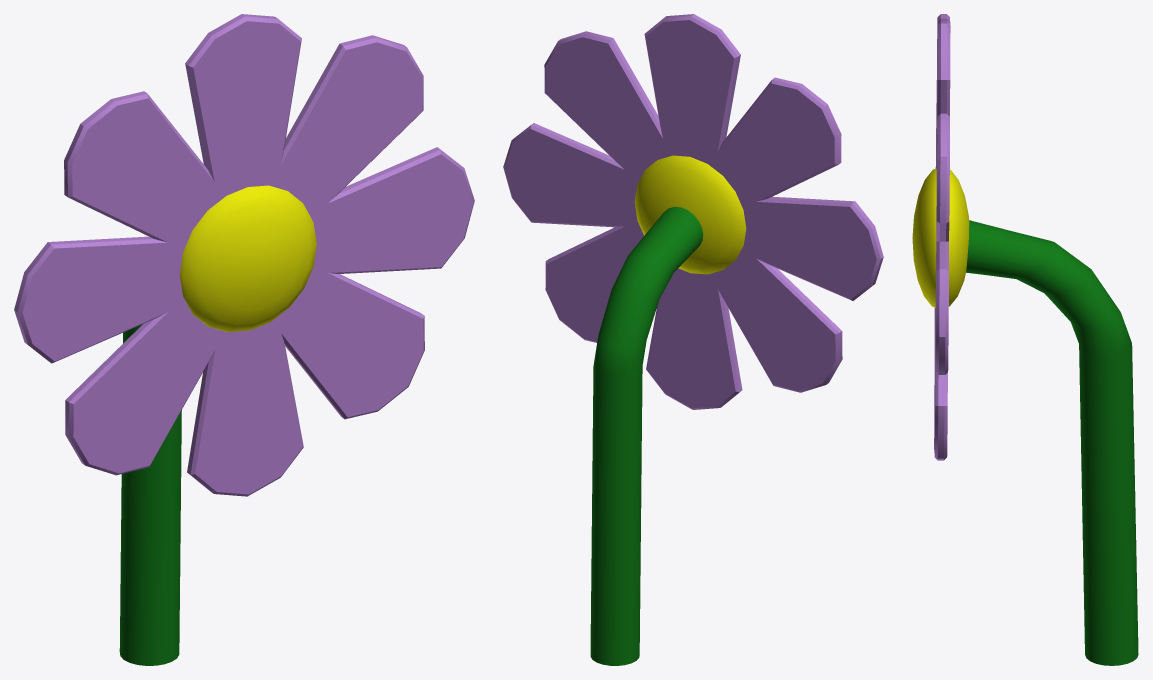
The model's file is flower4.fbx.
The picture shows the model from 3 angles, left to right: view 1: azimuth 30°, elevation 25°; view 2: azimuth 150°, elevation 25°; view 3: azimuth 270°, elevation 25°; orthographic projection. The views are drawn at different scales.
Parts seen in each view (by area): view 1: pCylinder5; view 2: pCylinder5; view 3: pCylinder5.
Boxes of the visible parts, left/top/right/bottom form: pCylinder5: left=14, top=14, right=474, bottom=665; pCylinder5: left=503, top=14, right=883, bottom=665; pCylinder5: left=912, top=14, right=1138, bottom=665.
Bounding box in the file's own units: 4.03 × 5.96 × 1.93.
